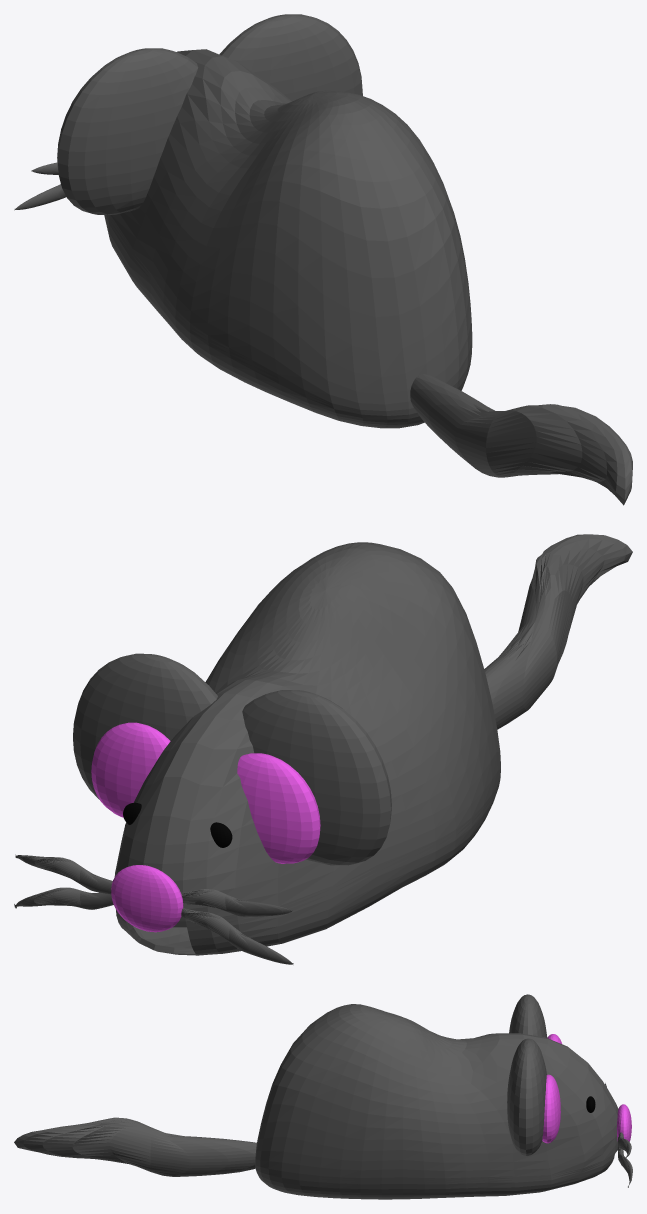
The model's file is ratstatue.fbx.
3 views of the same model, one above another, from view 1: azimuth 30°, elevation 25°; view 2: azimuth 150°, elevation 25°; view 3: azimuth 270°, elevation 25° (orthographic). The views are drawn at different scales.
Visible parts, largest first — view 1: polySurface13; view 2: polySurface13; view 3: polySurface13.
Part boxes in pixels (x1,y1,x2,y2): polySurface13: [14, 14, 632, 505]; polySurface13: [14, 534, 632, 964]; polySurface13: [14, 994, 632, 1199].
Size of the model in its own units: 11.29 by 9.85 by 30.97.
